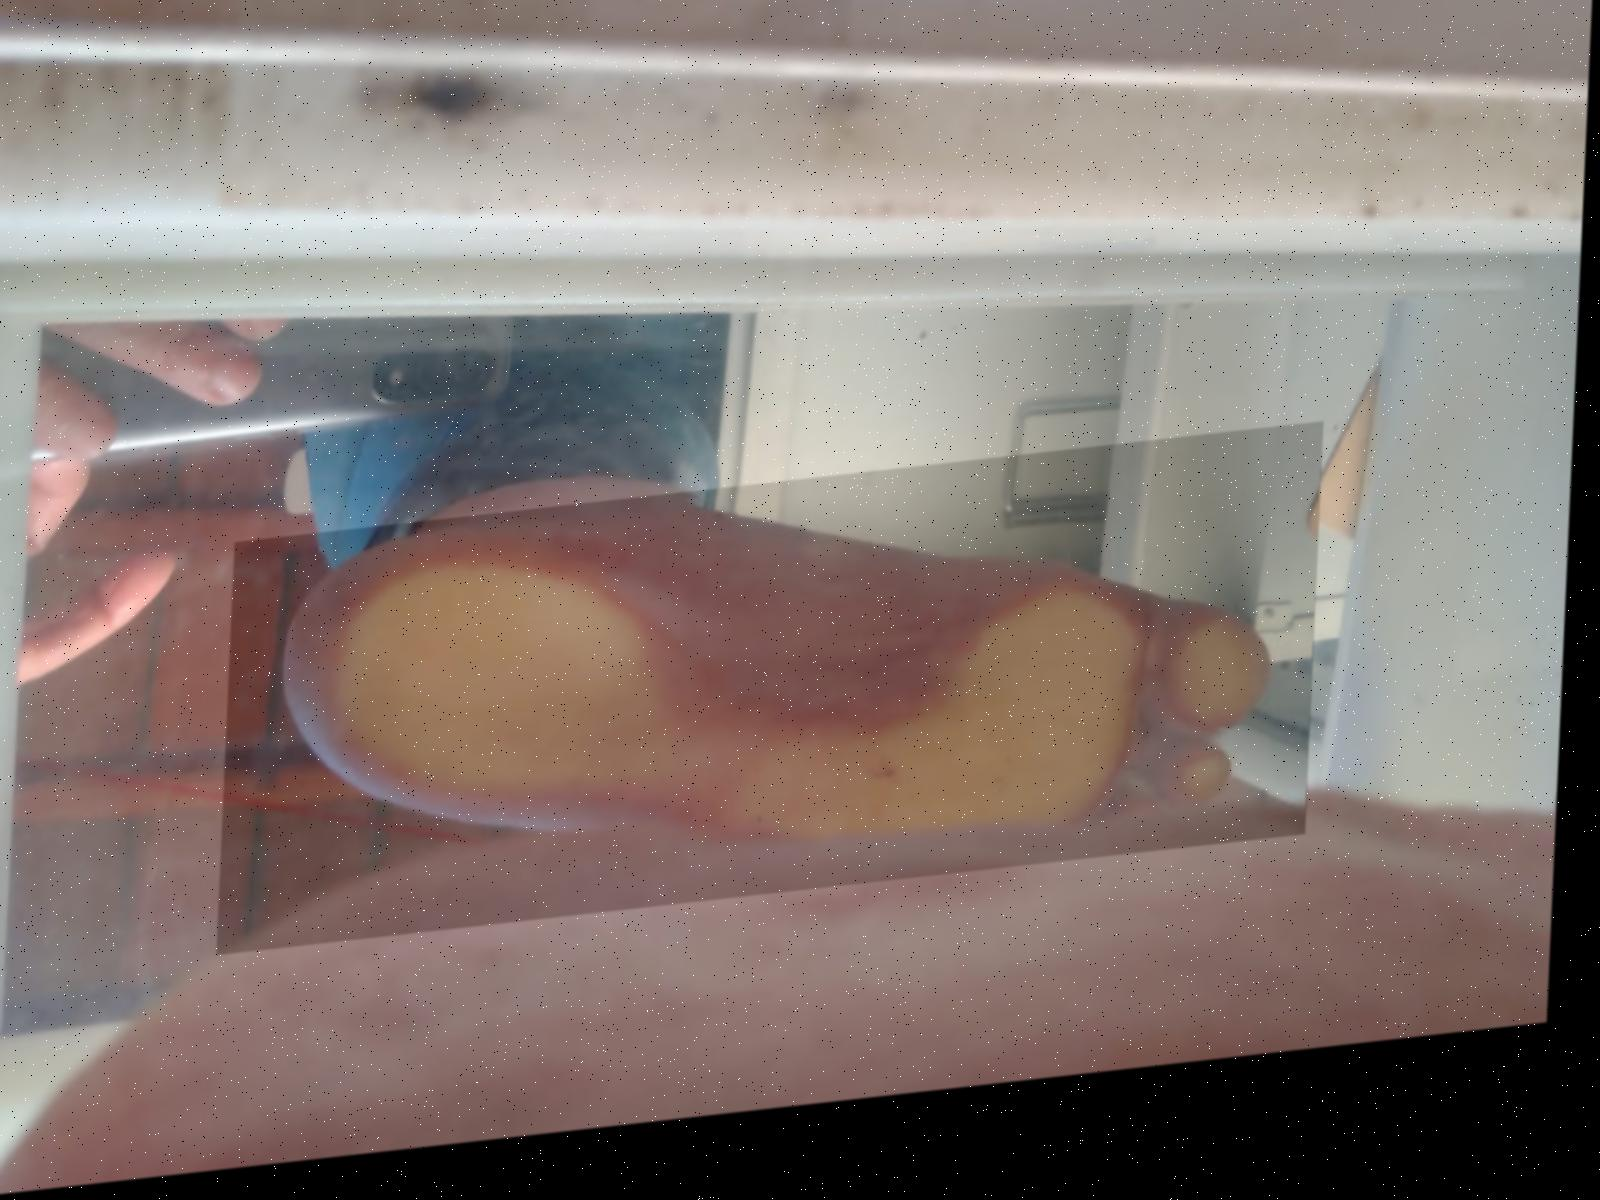Present: (227, 453, 1330, 962)
